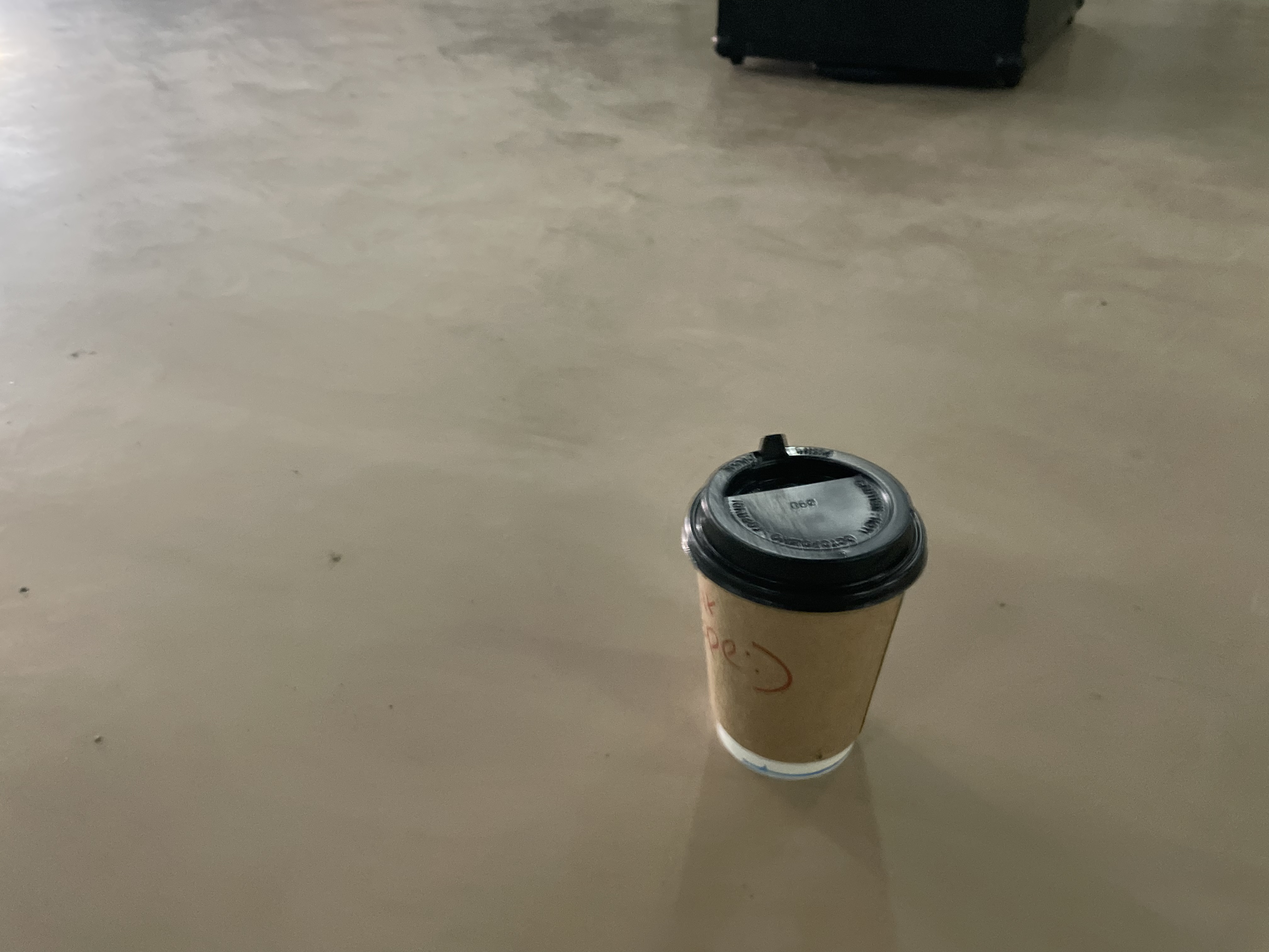cup: (682, 435, 928, 778)
